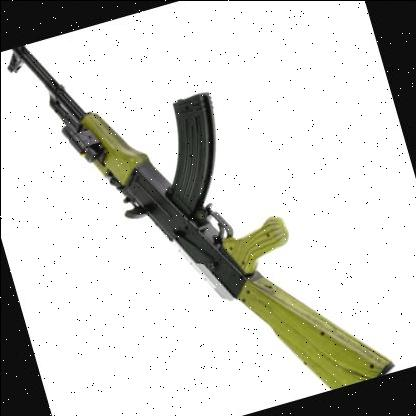rifle: (0, 0, 401, 416)
